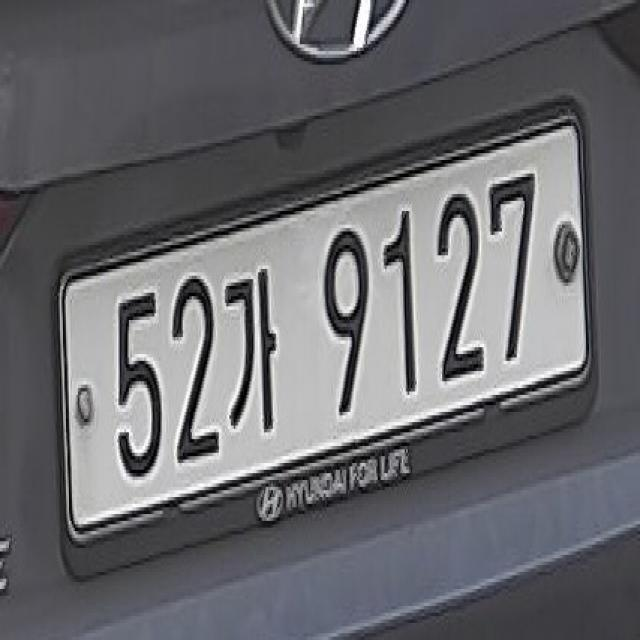1: (376, 216, 429, 404)
2: (172, 258, 224, 484), (436, 186, 488, 384)
5: (106, 284, 164, 490)
7: (484, 158, 538, 376)
9: (321, 216, 374, 426)
ga: (224, 265, 284, 446)
license_plate: (42, 69, 614, 608)
